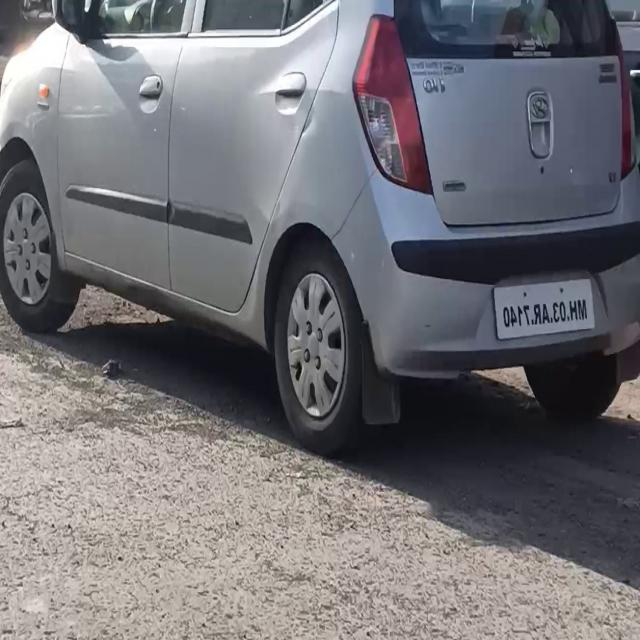license_plate: (489, 268, 598, 346)
